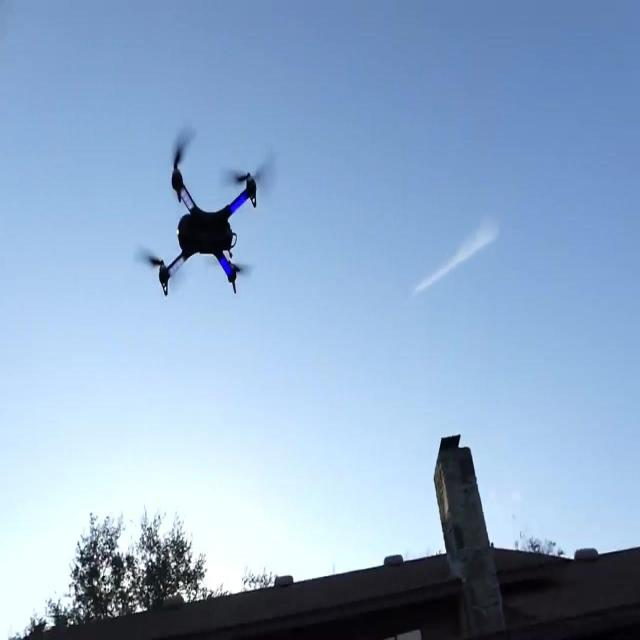UAV: (135, 131, 265, 297)
